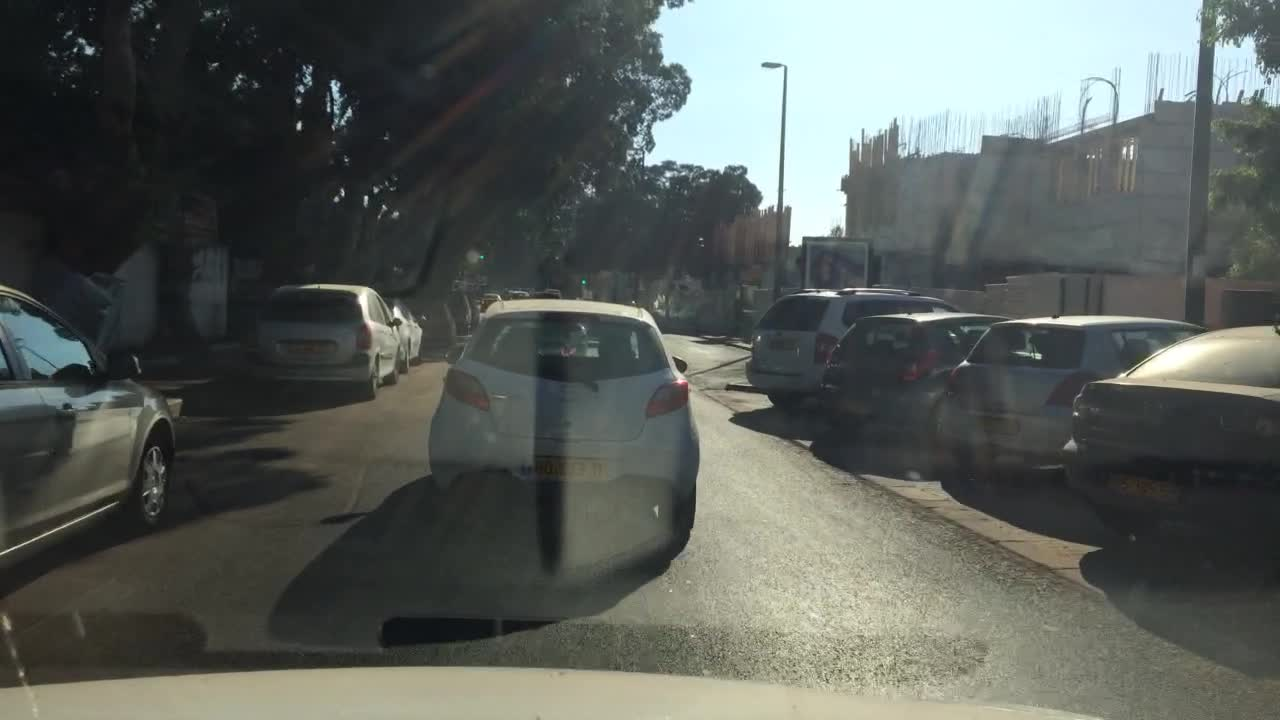car: (423, 296, 702, 531), (1, 281, 184, 571), (1054, 319, 1277, 545), (933, 311, 1212, 475), (740, 284, 961, 414), (812, 307, 1015, 447), (245, 275, 405, 402), (382, 294, 430, 375), (412, 296, 458, 353), (444, 290, 474, 335), (469, 295, 486, 332), (527, 286, 564, 300), (480, 291, 503, 313), (506, 286, 529, 300)
